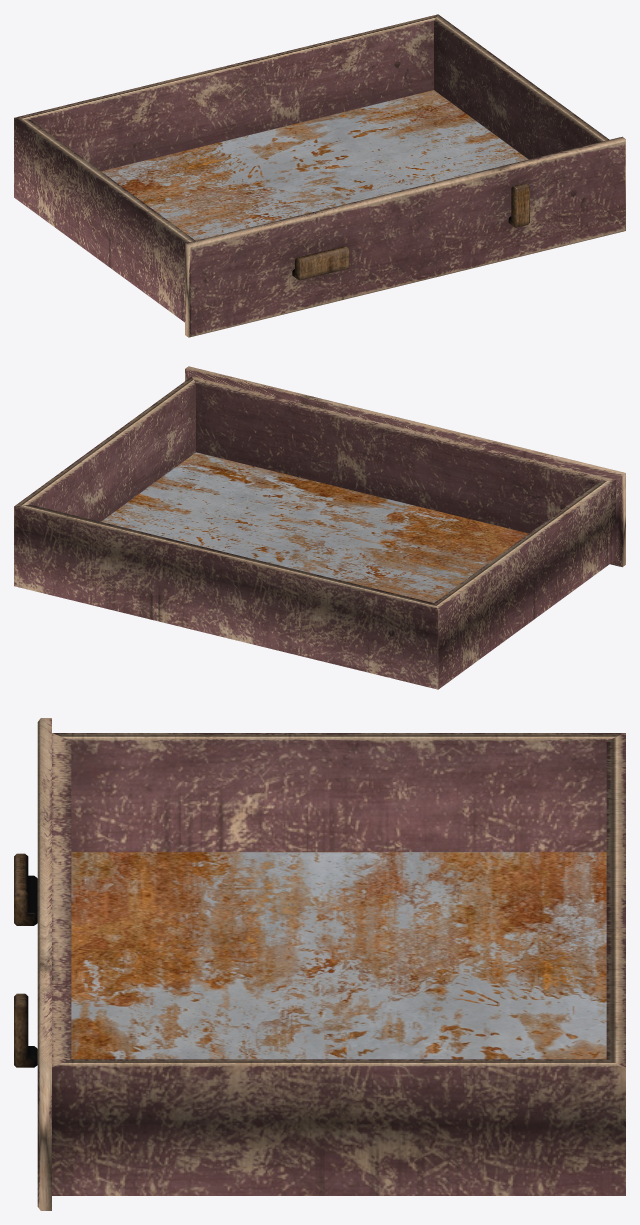
File: drawer_of_blacksmith_table_-_a.glb
3 renders of one model, top to bottom at view 1: azimuth 30°, elevation 25°; view 2: azimuth 150°, elevation 25°; view 3: azimuth 270°, elevation 25°, orthographic. The views are drawn at different scales.
Parts seen in each view (by area): view 1: Cube.000; view 2: Cube.000; view 3: Cube.000.
Part boxes in pixels (x1,y1,x2,y2): Cube.000: (14, 14, 625, 337); Cube.000: (14, 366, 625, 689); Cube.000: (14, 718, 625, 1210).
Size of the model in its own units: 2 by 0.401 by 1.5.
Materials: 1 (1 with a texture image).
